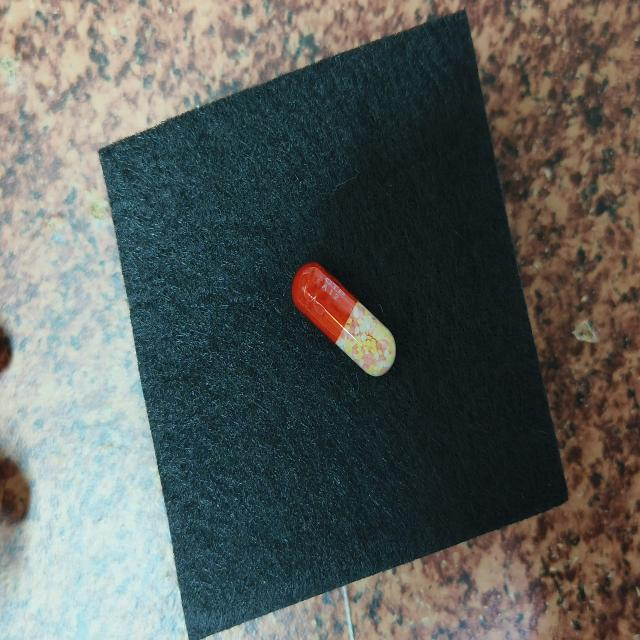Intact Capsule: (292, 262, 396, 376)
